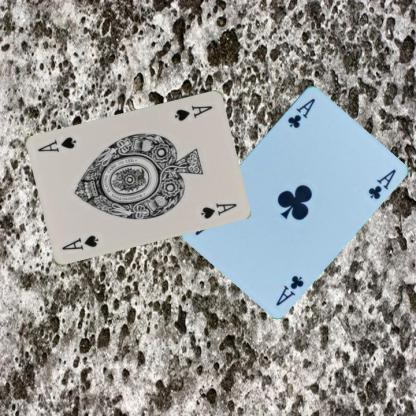Ac: (273, 272, 305, 307), (284, 95, 316, 129)
As: (172, 102, 214, 122), (60, 232, 100, 251)
